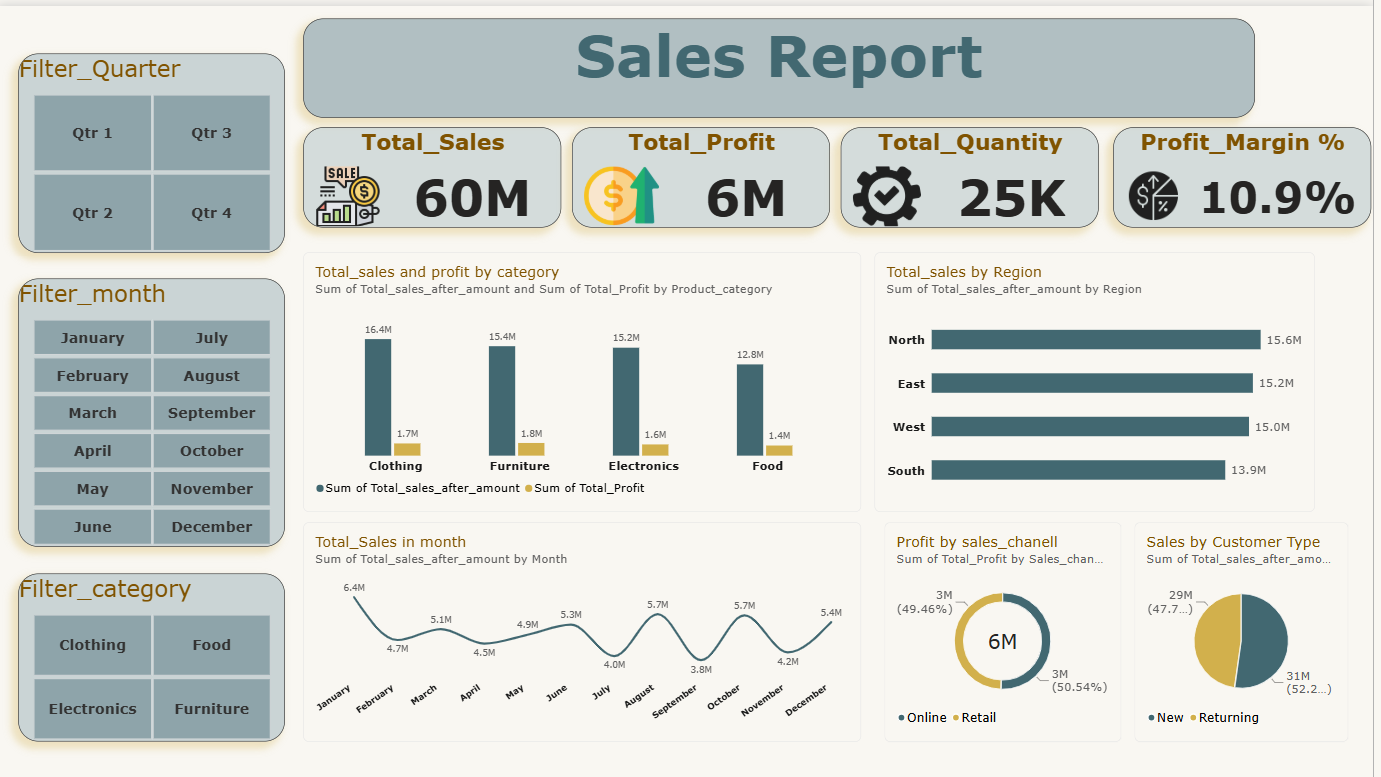

The page's visual inventory and layout, read from the dashboard file:
{"tool":"powerbi","page":{"name":"Sales Report","canvas":[1920,1080],"ordinal":0},"visuals":[{"type":"clusteredColumnChart","title":"Total_sales and profit  by category","fields":{"Category":["Cleaning_Sales_Data.Product_category"],"Y":["Sum(Cleaning_Sales_Data.Total_sales_after_amount)","Sum(Cleaning_Sales_Data.Total_Profit)"]},"box":[428,344,778,362],"z":0},{"type":"textbox","box":[428,18,1328,138],"z":1000},{"type":"cardVisual","title":"Total_Sales","fields":{"Data":["Sum(Cleaning_Sales_Data.Total_sales_after_amount)"]},"box":[428,170,360,140],"z":2000},{"type":"cardVisual","title":"Total_Profit","fields":{"Data":["Sum(Cleaning_Sales_Data.Total_Profit)"]},"box":[802,170,360,140],"z":3000},{"type":"cardVisual","title":"Total_Quantity","fields":{"Data":["Sum(Cleaning_Sales_Data.Quantity_sold)"]},"box":[1178,170,360,140],"z":4000},{"type":"slicer","title":"Filter_month","fields":{"Values":["Cleaning_Sales_Data.Sales_date.Variation.Date Hierarchy.Month"]},"box":[30,381,372,374],"z":5000},{"type":"slicer","title":"Filter_Quarter","fields":{"Values":["Cleaning_Sales_Data.Sales_date.Variation.Date Hierarchy.Quarter"]},"box":[30,66,372,278],"z":6000},{"type":"lineChart","title":"Total_Sales in month","fields":{"Y":["Sum(Cleaning_Sales_Data.Total_sales_after_amount)"],"Category":["Cleaning_Sales_Data.Sales_date.Variation.Date Hierarchy.Month"]},"box":[428,720,778,306],"z":7000},{"type":"clusteredBarChart","title":"Total_sales by Region","fields":{"Category":["Cleaning_Sales_Data.Region"],"Y":["Sum(Cleaning_Sales_Data.Total_sales_after_amount)"]},"box":[1224,344,614,362],"z":8000},{"type":"pieChart","title":"Sales by Customer Type","fields":{"Category":["Cleaning_Sales_Data.Customer_type"],"Y":["Sum(Cleaning_Sales_Data.Total_sales_after_amount)"]},"box":[1588,720,298,306],"z":9000},{"type":"donutChart","title":"Profit by sales_chanell","fields":{"Category":["Cleaning_Sales_Data.Sales_channel"],"Y":["Sum(Cleaning_Sales_Data.Total_Profit)"]},"box":[1238,720,330,306],"z":10000},{"type":"slicer","title":"Filter_category","fields":{"Values":["Cleaning_Sales_Data.Product_category"]},"box":[30,792,372,234],"z":11000},{"type":"cardVisual","title":"Profit_Margin %","fields":{"Data":["Cleaning_Sales_Data.Profit Margin %"]},"box":[1558,170,360,140],"z":12000}]}

Visuals, with their boxes in screenshot pixels (x1, y1, x2, y2), scaled from the page's 1920x1080 canvas onto the 1381x777 screenshot:
"Total_sales and profit  by category" clusteredColumnChart: [x1=308, y1=247, x2=867, y2=508]
textbox: [x1=308, y1=13, x2=1263, y2=112]
"Total_Sales" cardVisual: [x1=308, y1=122, x2=567, y2=223]
"Total_Profit" cardVisual: [x1=577, y1=122, x2=836, y2=223]
"Total_Quantity" cardVisual: [x1=847, y1=122, x2=1106, y2=223]
"Filter_month" slicer: [x1=22, y1=274, x2=289, y2=543]
"Filter_Quarter" slicer: [x1=22, y1=47, x2=289, y2=247]
"Total_Sales in month" lineChart: [x1=308, y1=518, x2=867, y2=738]
"Total_sales by Region" clusteredBarChart: [x1=880, y1=247, x2=1322, y2=508]
"Sales by Customer Type" pieChart: [x1=1142, y1=518, x2=1357, y2=738]
"Profit by sales_chanell" donutChart: [x1=890, y1=518, x2=1128, y2=738]
"Filter_category" slicer: [x1=22, y1=570, x2=289, y2=738]
"Profit_Margin %" cardVisual: [x1=1121, y1=122, x2=1380, y2=223]
